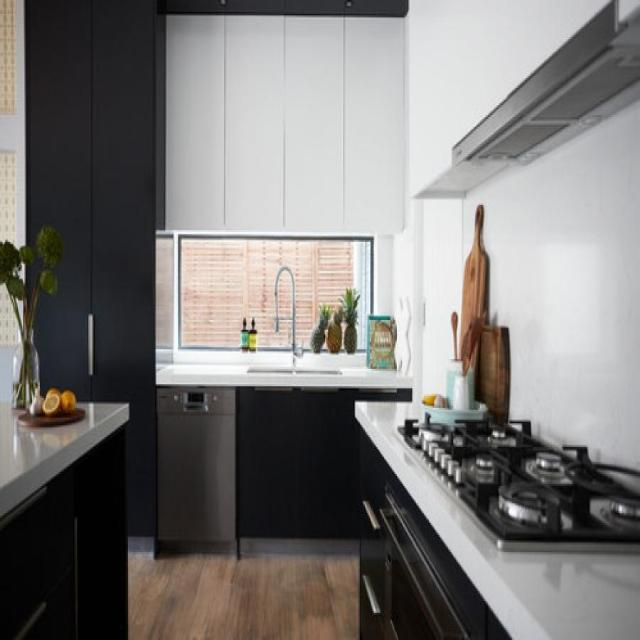dishwasher: (156, 384, 236, 560)
